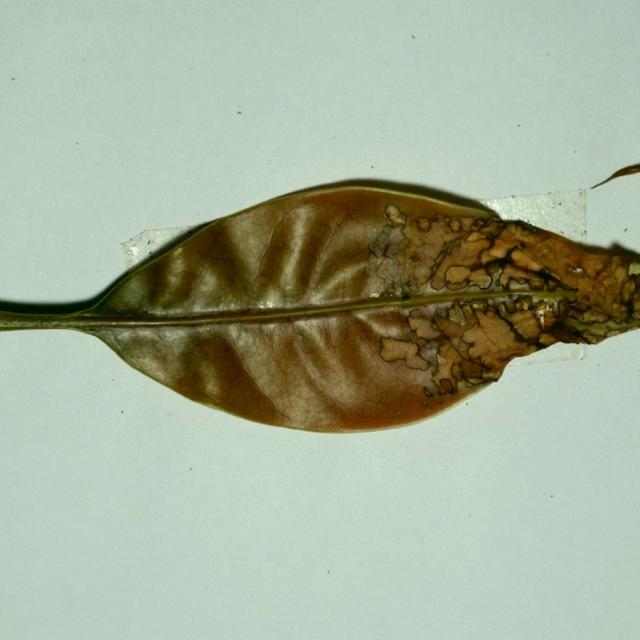Anthracnose: (315, 178, 500, 217), (301, 207, 356, 296), (179, 353, 239, 409), (362, 333, 431, 381), (254, 211, 288, 288), (100, 266, 158, 311), (424, 234, 472, 286), (471, 307, 521, 351), (400, 297, 467, 324), (362, 309, 412, 339), (139, 234, 185, 263), (532, 267, 577, 293), (368, 224, 398, 258), (508, 248, 545, 273), (579, 254, 611, 279), (393, 255, 413, 291), (483, 257, 511, 281), (500, 275, 537, 292), (554, 296, 575, 324), (409, 261, 433, 284), (580, 322, 615, 337), (453, 374, 479, 389), (624, 293, 639, 318), (501, 298, 520, 315), (537, 332, 559, 346), (464, 231, 488, 243), (481, 368, 500, 381), (567, 266, 584, 274), (409, 251, 420, 263)
Mango: (0, 181, 639, 437)
